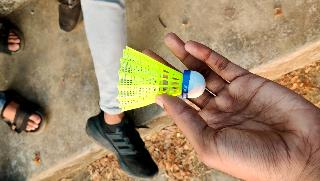shuttlecock: (116, 46, 204, 111)
